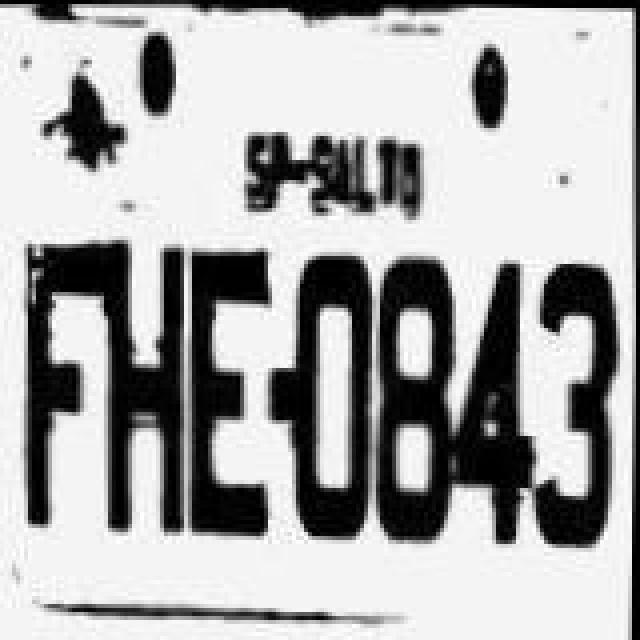3: (530, 258, 626, 546)
4: (446, 258, 542, 546)
8: (368, 250, 460, 538)
E: (184, 246, 284, 538)
F: (24, 230, 116, 530)
H: (98, 238, 194, 538)
O: (288, 250, 380, 542)
